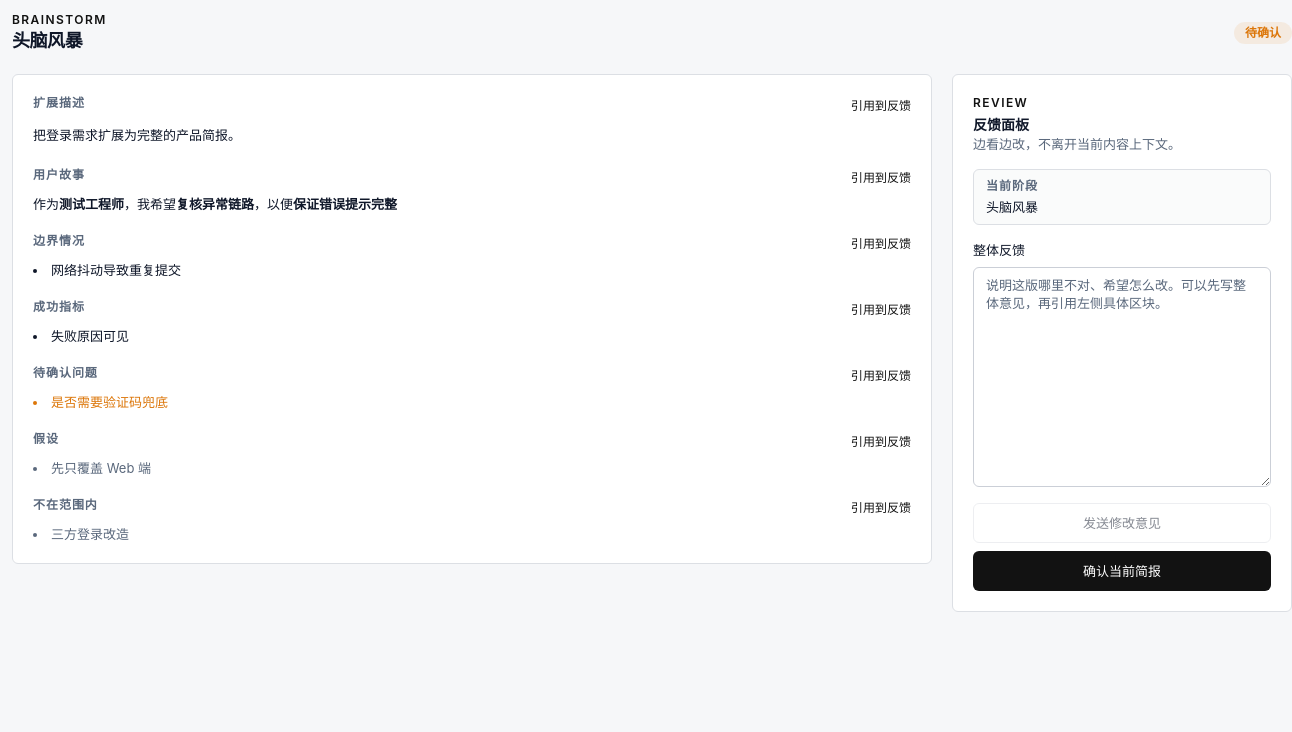
Test: IdeationBrainstormPanel › shows a persistent review panel and quoted section context while waiting for confirmation
Click the button "引用到反馈" in the row of "用户故事": click(881, 178) [851,170,911,186]
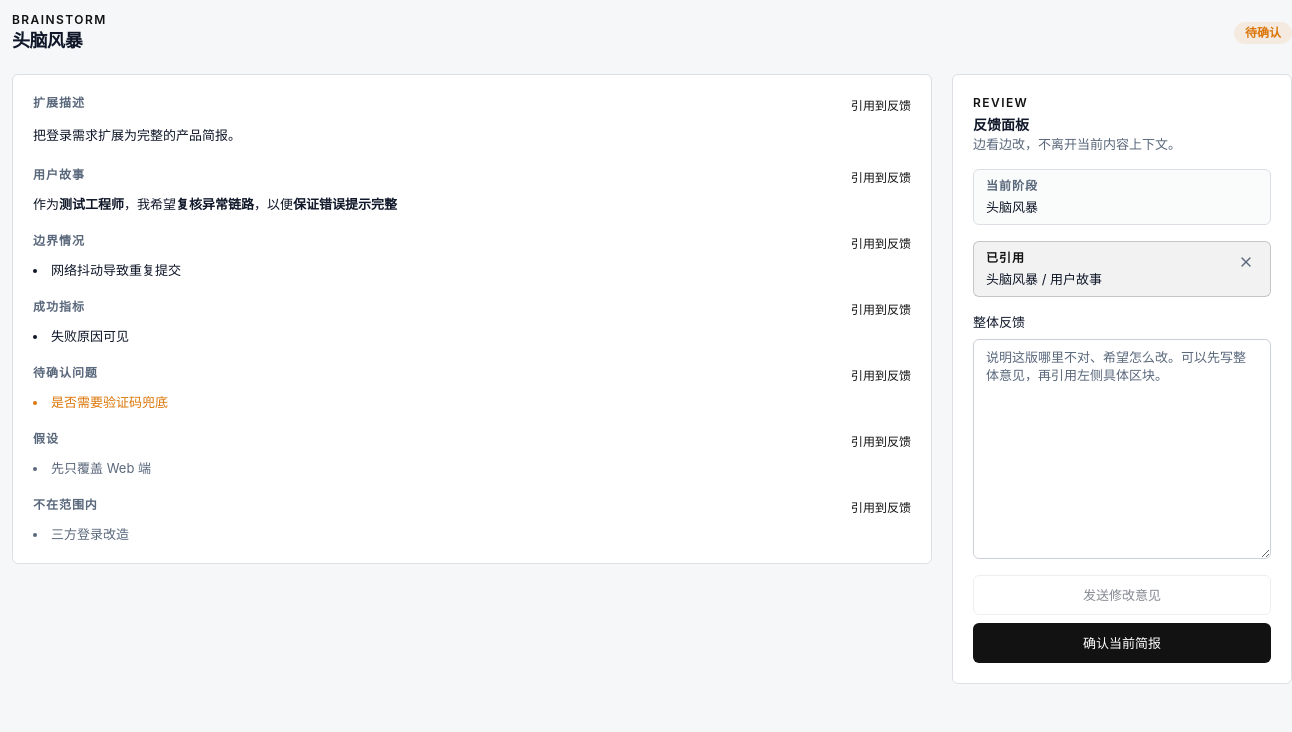
Result: the text "已引用" is shown at [986,250,1025,265]
Result: the text "头脑风暴 / 用户故事" is shown at [986,270,1102,288]
